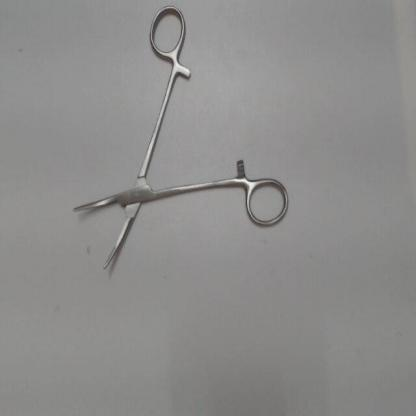Crile Artery Forceps: (62, 1, 292, 283)
